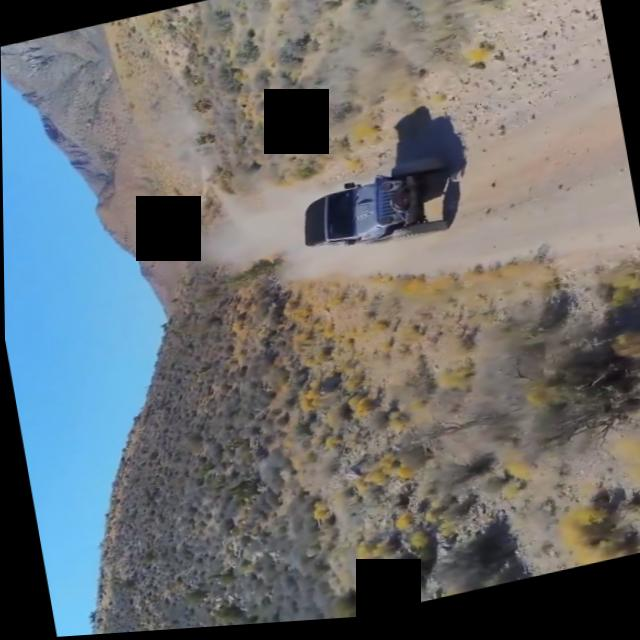Vehicle: (289, 157, 466, 268)
